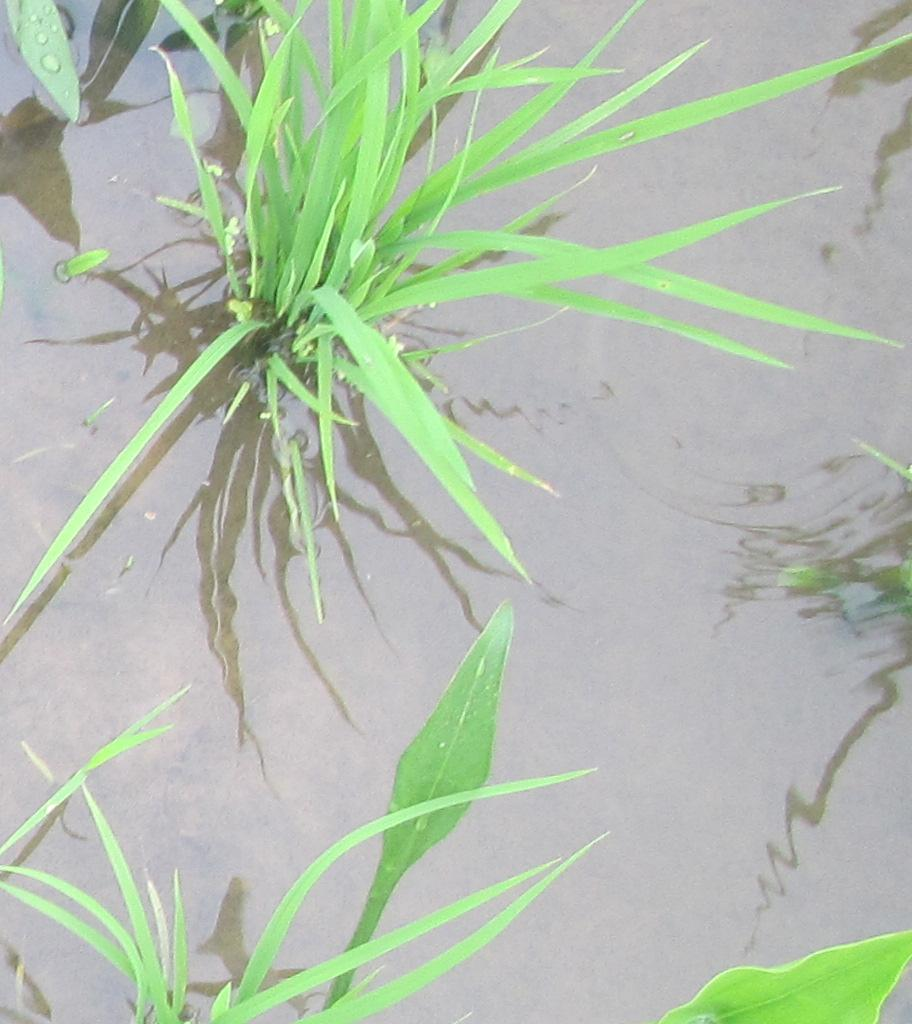Weed: (386, 597, 524, 857), (671, 930, 909, 1024)
